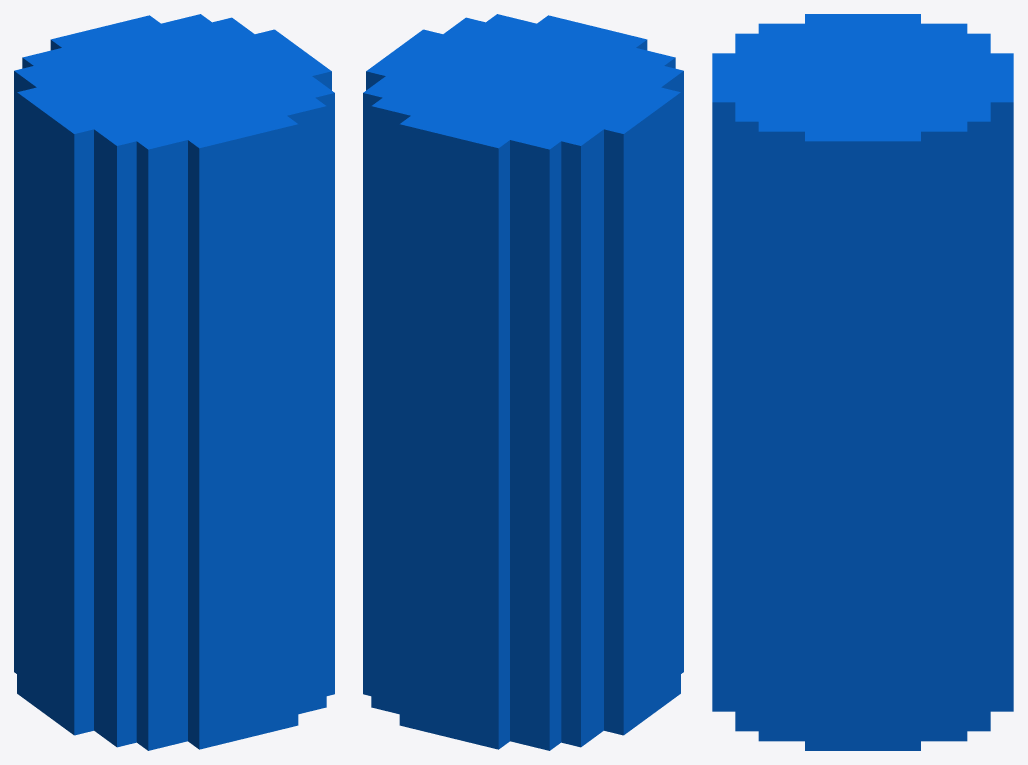
Rendered from Matrix_2.fbx.
3 views of the same model, side by side, from view 1: azimuth 30°, elevation 25°; view 2: azimuth 150°, elevation 25°; view 3: azimuth 270°, elevation 25° (orthographic).
Parts seen in each view (by area): view 1: Matrix_2; view 2: Matrix_2; view 3: Matrix_2.
Part boxes in pixels (bbox=[...]): Matrix_2: bbox=[14, 14, 334, 750]; Matrix_2: bbox=[363, 14, 683, 750]; Matrix_2: bbox=[712, 14, 1013, 750].
Bounding box in the file's own units: 13 × 29 × 13.
Materials: 1 (1 with a texture image).
